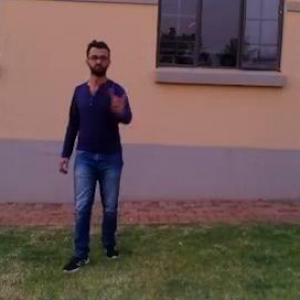takeoff-hand: (108, 84, 131, 117)
